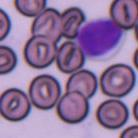L: (75, 17, 126, 60)
